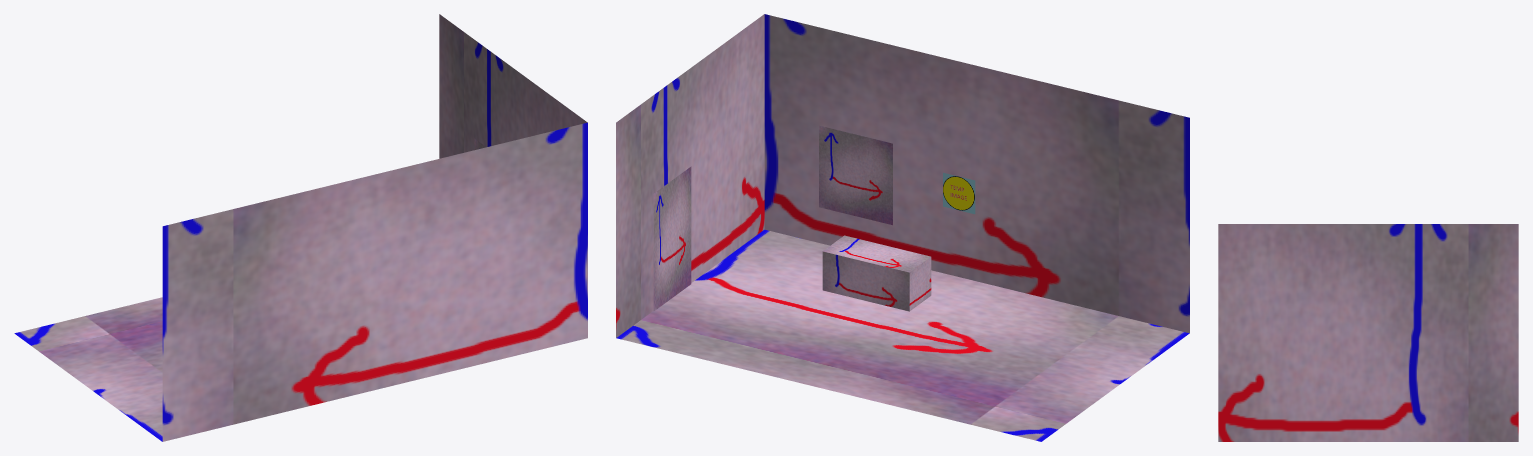
The model's file is room2.obj.
The picture shows the model from 3 angles, left to right: view 1: azimuth 30°, elevation 25°; view 2: azimuth 150°, elevation 25°; view 3: azimuth 270°, elevation 25°; orthographic projection.
Visible parts, largest first — view 1: room_Plane; view 2: room_Plane, table_Cube.001, window_Plane.003, door_Plane.001, taulu_Plane.002; view 3: room_Plane.
Part boxes in pixels (left/top/right/bottom): room_Plane: left=14, top=14, right=587, bottom=441; room_Plane: left=616, top=14, right=1189, bottom=441; table_Cube.001: left=822, top=235, right=931, bottom=311; window_Plane.003: left=819, top=125, right=892, bottom=225; door_Plane.001: left=653, top=166, right=691, bottom=311; taulu_Plane.002: left=943, top=172, right=975, bottom=214; room_Plane: left=1218, top=224, right=1518, bottom=441.
Size of the model in its own units: 6.62 by 3.21 by 4.
